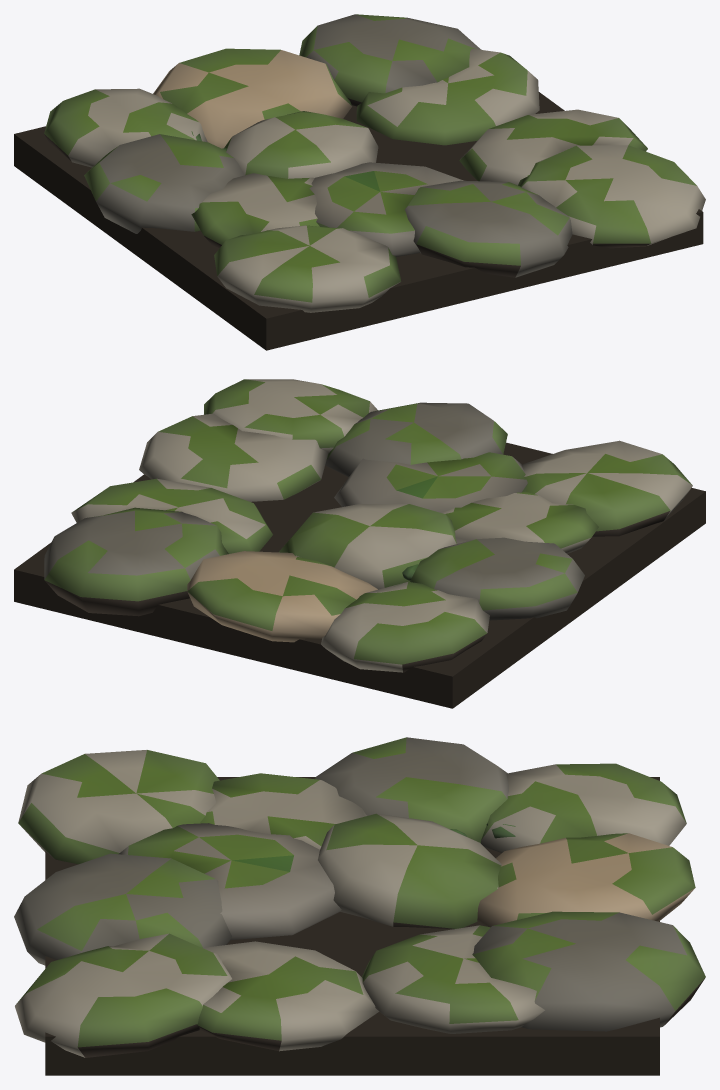
File: kit_corr2.glb
3 renders of one model, top to bottom at view 1: azimuth 30°, elevation 25°; view 2: azimuth 150°, elevation 25°; view 3: azimuth 270°, elevation 25°, orthographic. The views are drawn at different scales.
Visible parts, largest first — view 1: kit_corr2; view 2: kit_corr2; view 3: kit_corr2.
Part boxes in pixels (x1,y1,x2,y2): kit_corr2: (14, 14, 705, 350); kit_corr2: (14, 379, 705, 708); kit_corr2: (14, 737, 705, 1075).
Size of the model in its own units: 1.1 by 0.1447 by 1.13.
